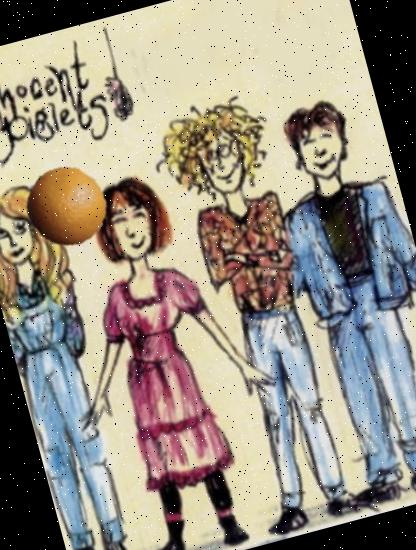Orange: (15, 155, 117, 257)
